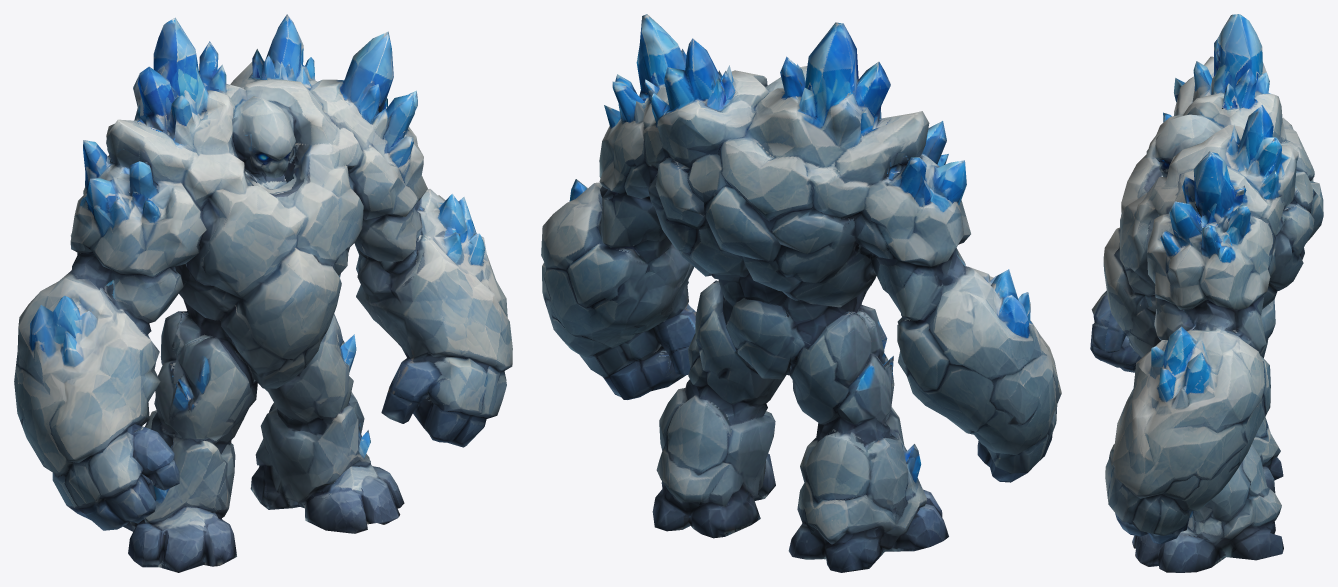
File: Enemy_IceGolem.fbx
3 renders of one model, left to right at view 1: azimuth 30°, elevation 25°; view 2: azimuth 150°, elevation 25°; view 3: azimuth 270°, elevation 25°, orthographic. The views are drawn at different scales.
Visible parts, largest first — view 1: texture_mapping; view 2: texture_mapping; view 3: texture_mapping.
Part boxes in pixels (bbox=[...]): texture_mapping: bbox=[14, 14, 512, 572]; texture_mapping: bbox=[541, 14, 1061, 572]; texture_mapping: bbox=[1090, 14, 1323, 572].
Bounding box in the file's own units: 0.973 × 0.4474 × 1.
1 material, 1 textured.
